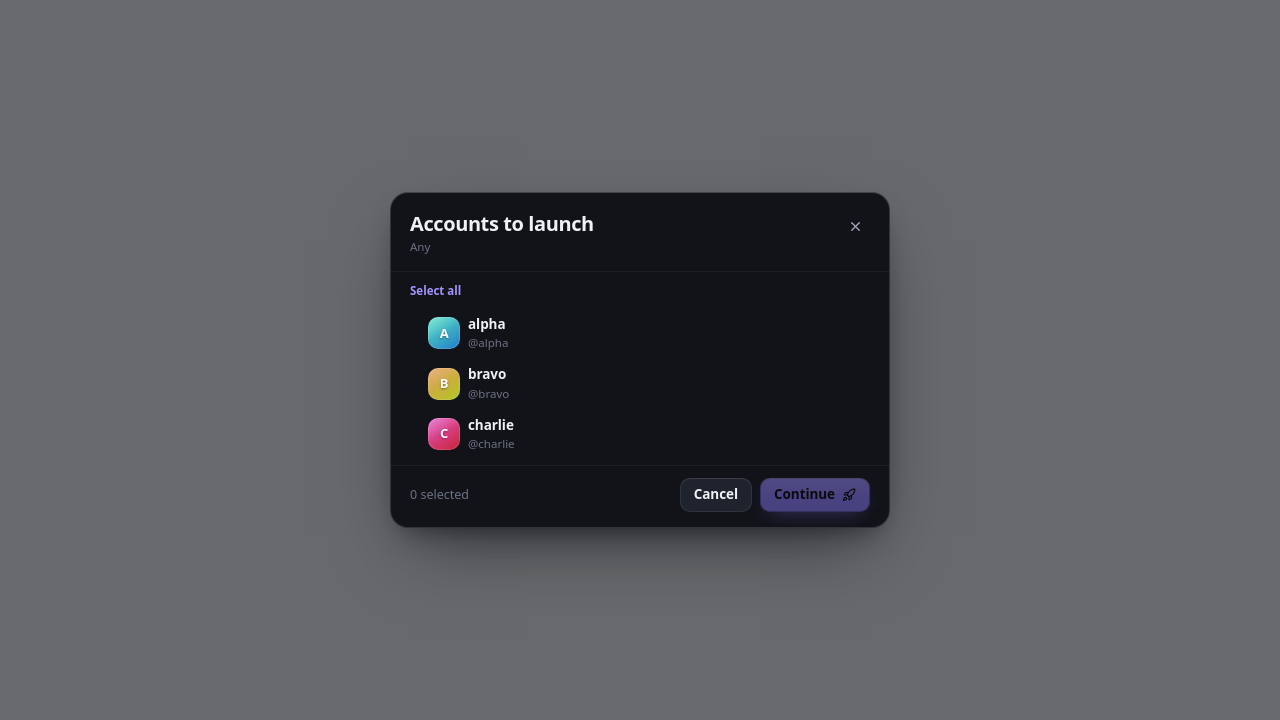
Scenario: LaunchModalHost picker › selects every account in one click and clears them again
Expected: the button "Continue" is disabled, [760, 478, 870, 512]
Click the button "Select all" at (436, 290), box [410, 282, 461, 299]
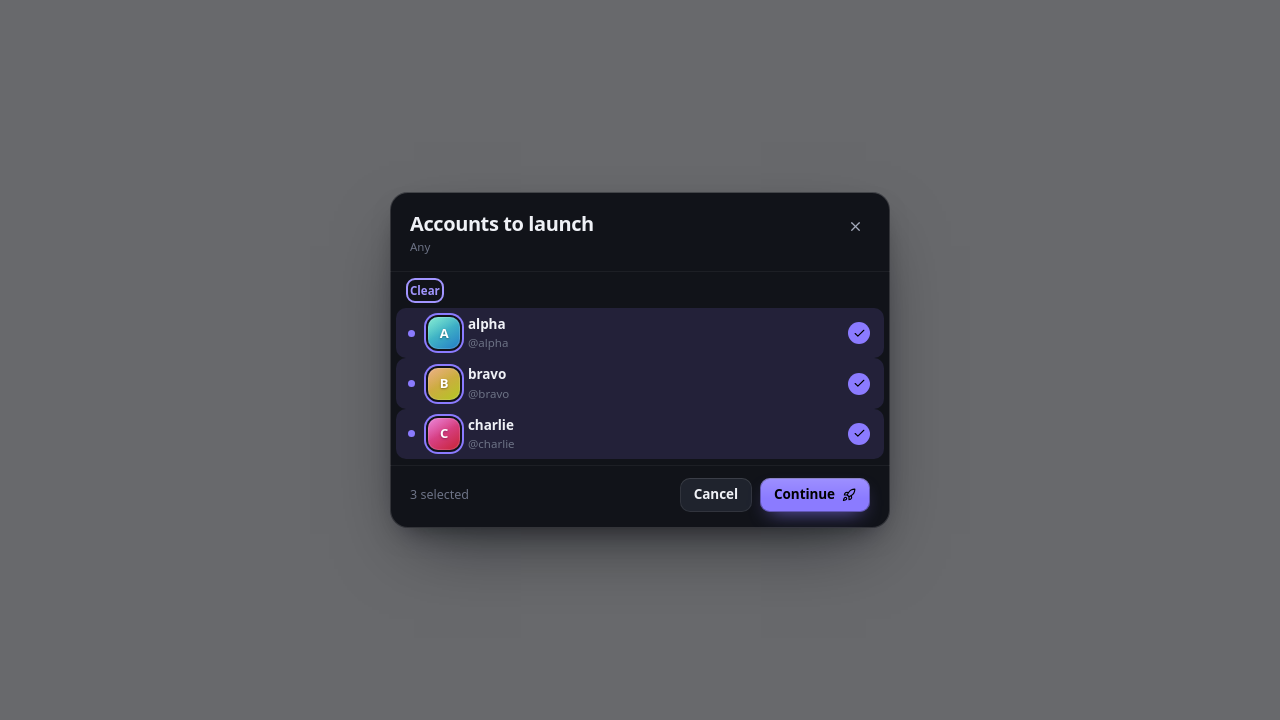
Expected: the number of options is 3, [396, 308, 884, 358]; [396, 358, 884, 409]; [396, 409, 884, 459]
Result: the text "3 selected" is shown at [410, 486, 469, 504]
Click the button "Clear" at (425, 290), box [410, 282, 440, 299]
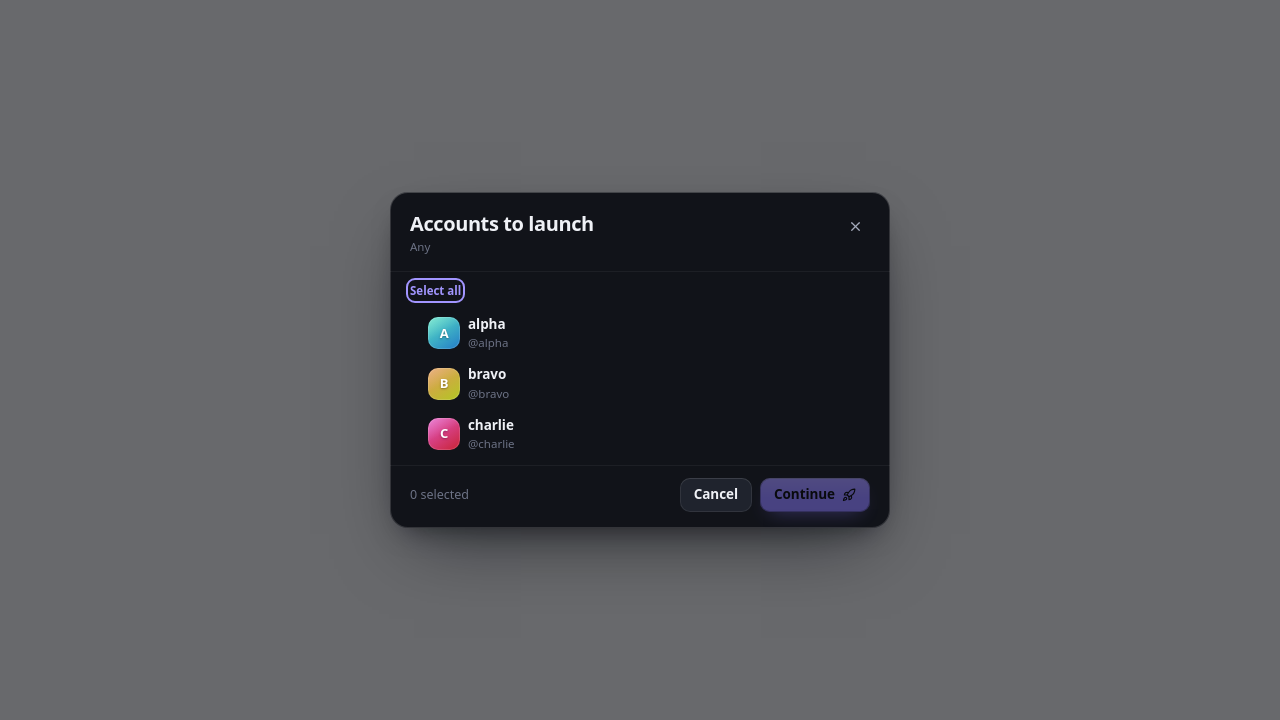
Result: the button "Continue" is disabled at [760, 478, 870, 512]
